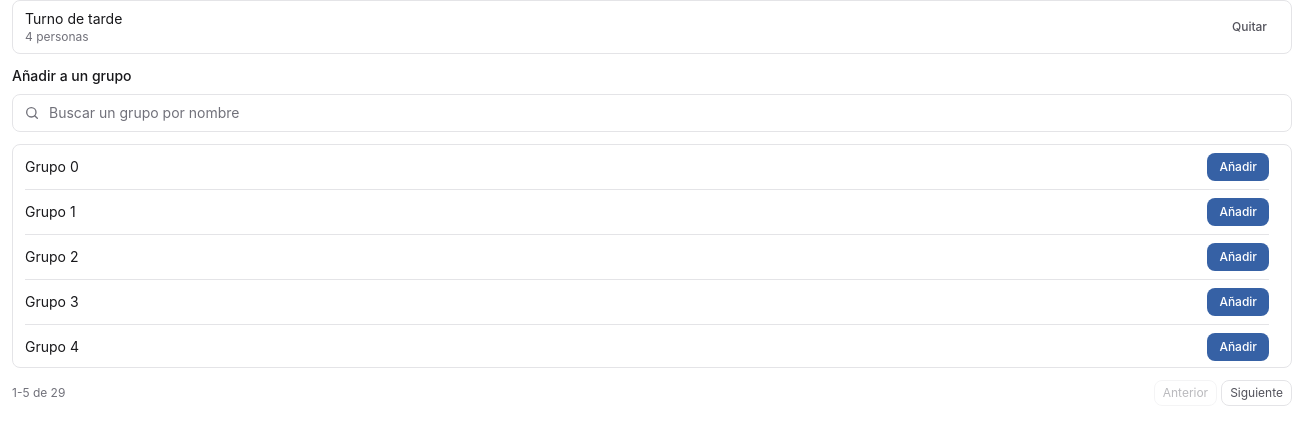
Test: PersonGroupsSection › searches on the server, not on the page already in hand
The width and height of the screenshot is (1304, 423).
Step 1. Type "delegacion" into the search field with placeholder "Buscar un grupo por nombre" → (652, 113), box [12, 94, 1292, 132]
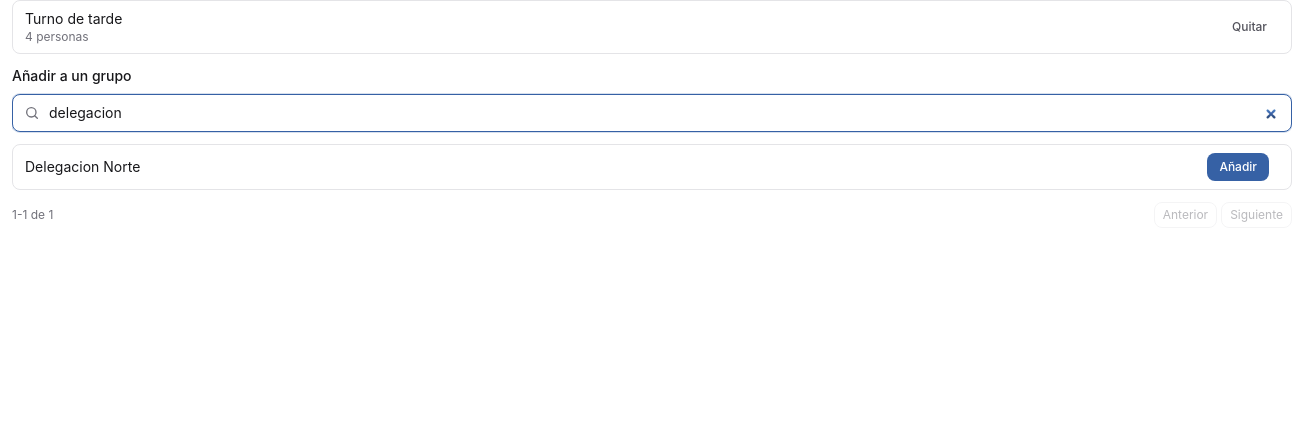
Expected: the text "Delegacion Norte" is shown, [25, 158, 140, 175]
